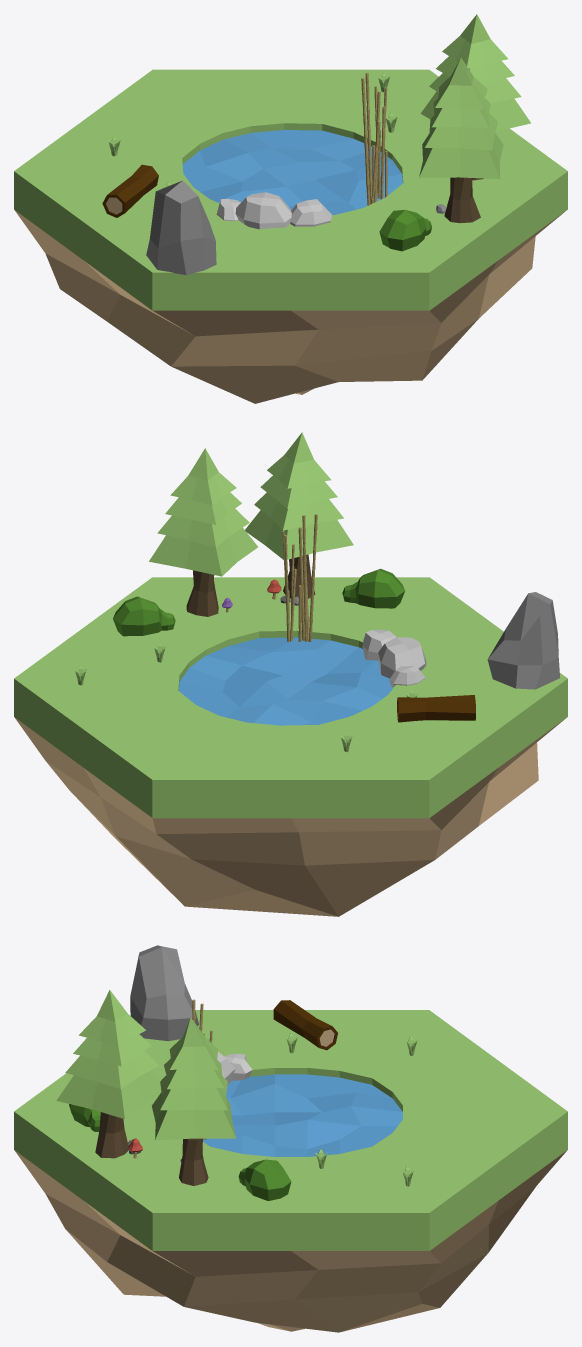
File: escenario.fbx
The picture shows the model from 3 angles, top to bottom: view 1: azimuth 30°, elevation 25°; view 2: azimuth 150°, elevation 25°; view 3: azimuth 270°, elevation 25°; orthographic projection.
Parts seen in each view (by area): view 1: isla.001; view 2: isla.001; view 3: isla.001.
Part boxes in pixels (<box>): isla.001: <box>14,14,567,403</box>; isla.001: <box>14,432,567,916</box>; isla.001: <box>14,945,567,1332</box>.
Size of the model in its own units: 2790 by 2415 by 3221.
